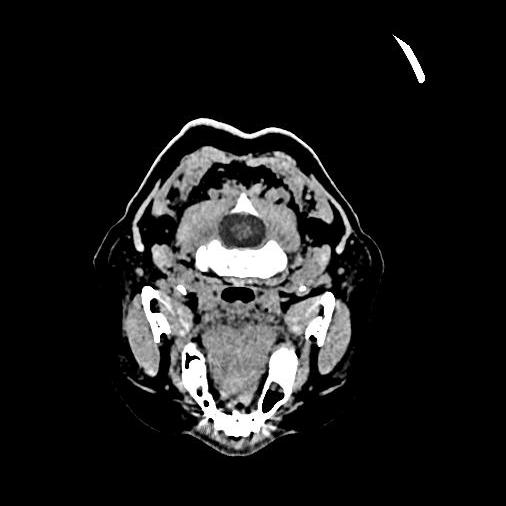Normal_Brain: (83, 108, 401, 462)
